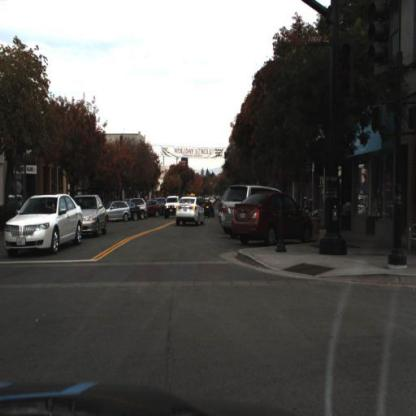car: (3, 191, 83, 257), (232, 191, 315, 247), (220, 183, 284, 236), (219, 182, 278, 233), (77, 195, 109, 237), (175, 196, 203, 224), (103, 199, 133, 223), (163, 191, 183, 222), (123, 198, 141, 223), (105, 202, 133, 218), (166, 197, 180, 218), (126, 202, 142, 219), (202, 198, 214, 218), (147, 199, 159, 215), (136, 199, 146, 217)
pedestrian: (7, 205, 16, 234)
